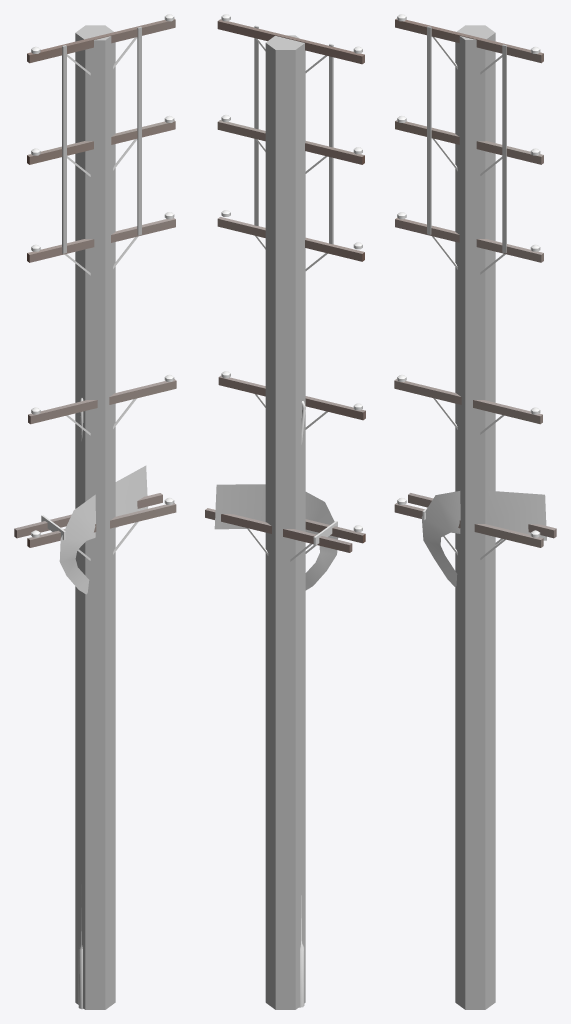
File: powerpole3.dae
3 renders of one model, left to right at view 1: azimuth 30°, elevation 25°; view 2: azimuth 150°, elevation 25°; view 3: azimuth 330°, elevation 25°, orthographic.
Visible parts, largest first — view 1: Colmesh-1, powerpole3_a400; view 2: Colmesh-1, powerpole3_a400; view 3: Colmesh-1, powerpole3_a400.
Boxes of the visible parts, left/top/right/bottom form: Colmesh-1: left=75, top=25, right=115, bottom=1009; powerpole3_a400: left=14, top=14, right=176, bottom=1009; Colmesh-1: left=265, top=35, right=305, bottom=1009; powerpole3_a400: left=205, top=14, right=365, bottom=1007; Colmesh-1: left=455, top=25, right=495, bottom=1009; powerpole3_a400: left=394, top=14, right=556, bottom=586.
Bounding box in the file's own units: 3.16 × 0.8426 × 20.18.
